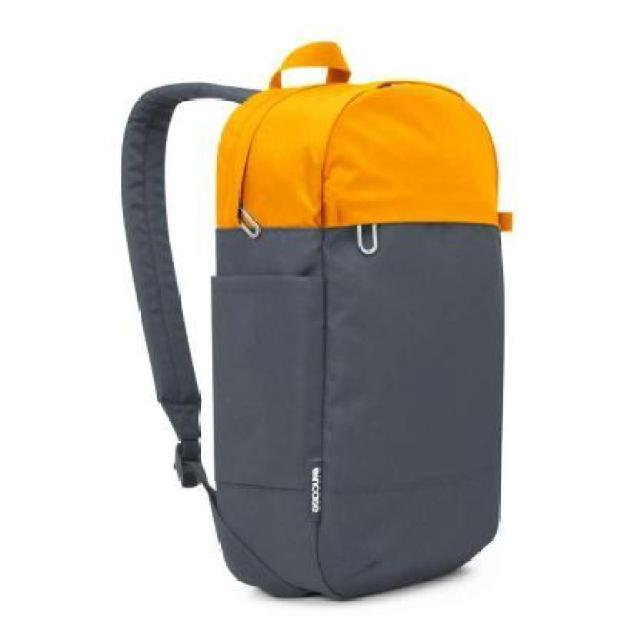backpack: (117, 36, 511, 604)
